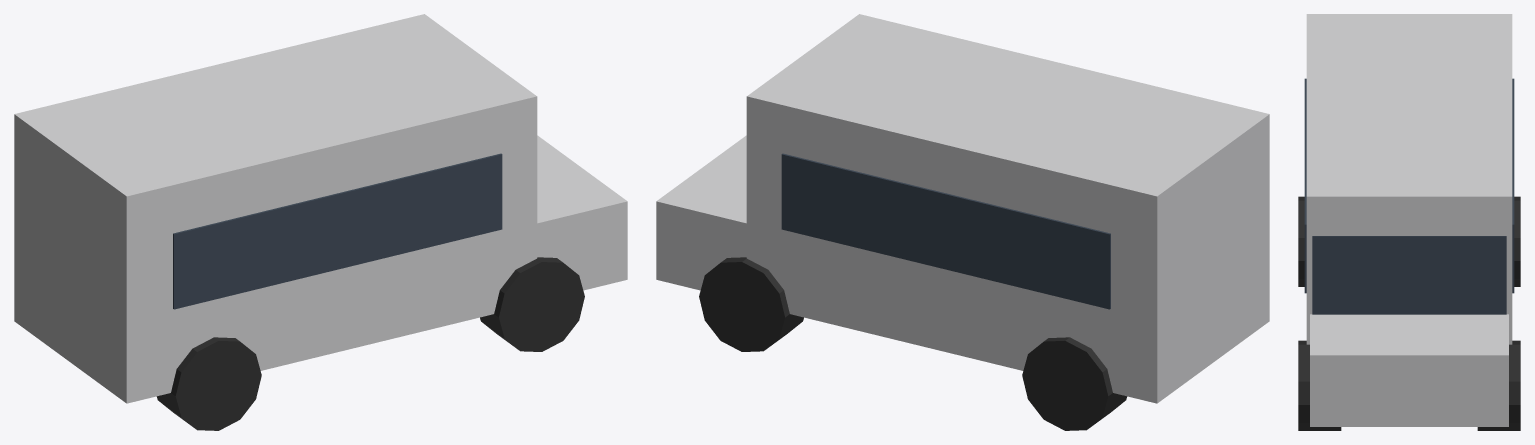
The model's file is SM_TrafficTransporter.glb.
3 views of the same model, side by side, from view 1: azimuth 30°, elevation 25°; view 2: azimuth 150°, elevation 25°; view 3: azimuth 270°, elevation 25° (orthographic). The views are drawn at different scales.
Visible parts, largest first — view 1: SM_TrafficTransporter; view 2: SM_TrafficTransporter; view 3: SM_TrafficTransporter.
Part boxes in pixels (<box>): SM_TrafficTransporter: <box>14,14,627,430</box>; SM_TrafficTransporter: <box>656,14,1269,430</box>; SM_TrafficTransporter: <box>1298,14,1520,430</box>.
Bounding box in the file's own units: 4.9 × 2.35 × 2.06.
